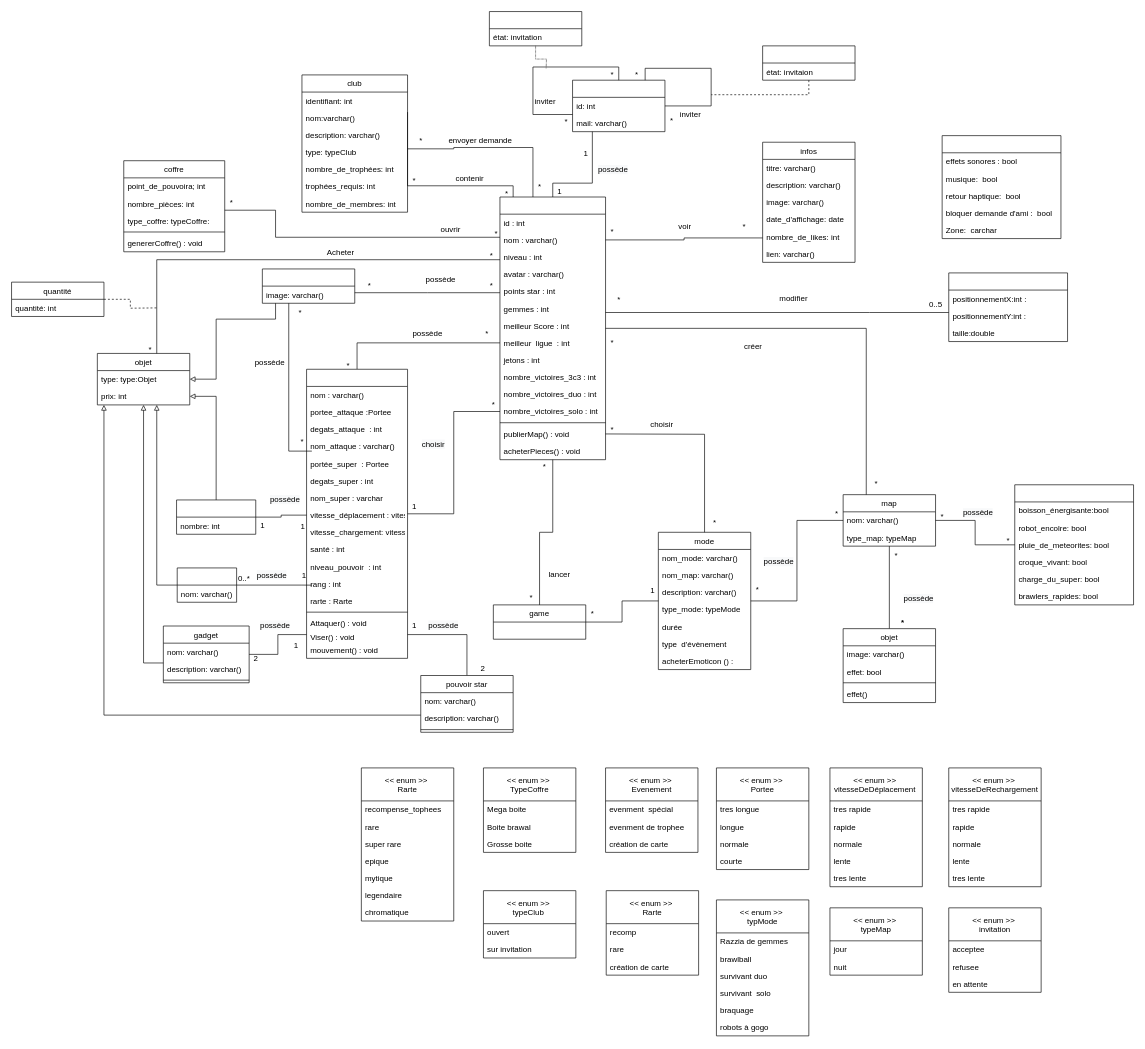
Some shapes in this 1145 by 1049 pixel diagram are drawn without their labels. Each missing label, with the box of its shape:
Botton: (948, 272, 1068, 342)
brawl: (306, 369, 408, 658)
compte: (572, 80, 665, 132)
invitation: (762, 45, 855, 80)
invitation match: (489, 11, 582, 46)
modificateurs: (1014, 484, 1134, 605)
Parametre: (941, 135, 1061, 239)
player: (499, 196, 606, 460)
points de pouvoir: (176, 499, 256, 534)
skin: (177, 567, 237, 602)
émoticon: (262, 268, 355, 303)
